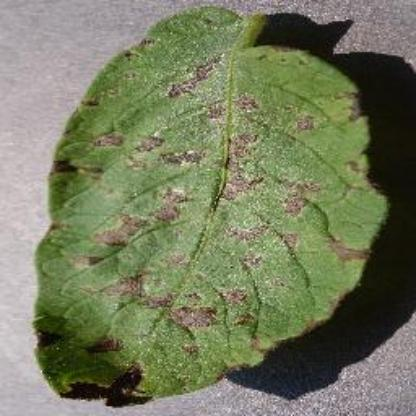Early-Blight: (32, 2, 416, 408)
